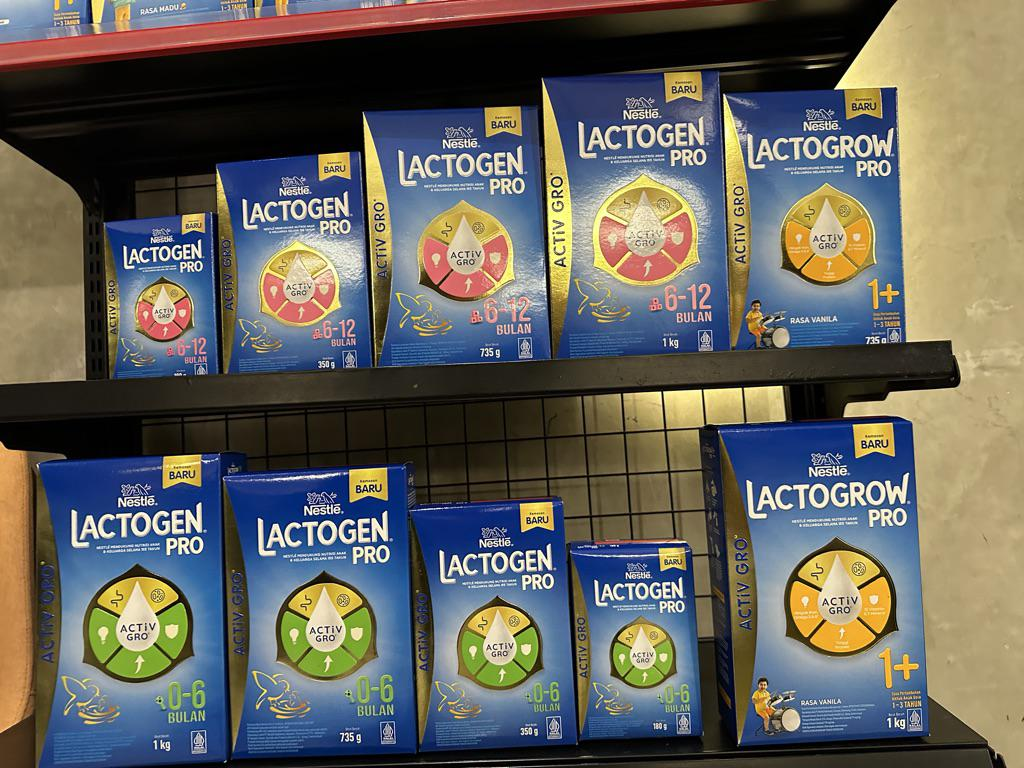LACTOGEN PRO 0-6 mo 12x1kg ID: (34, 454, 226, 764)
LACTOGEN PRO 0-6 mo 12x735g ID: (223, 468, 415, 752)
LACTOGEN PRO 0-6 mo 24x350g ID: (410, 501, 573, 747)
LACTOGEN PRO 0-6 mo 40x180g ID: (569, 548, 701, 742)
LACTOGEN PRO 6-12 mo 12x1kg ID: (540, 67, 727, 354)
LACTOGEN PRO 6-12 mo 12x735g ID: (361, 103, 556, 365)
LACTOGEN PRO 6-12 mo 24x350g ID: (361, 105, 552, 364), (213, 149, 372, 373)
LACTOGEN PRO 6-12 mo 40x180g ID: (99, 212, 221, 379)
LACTOGROW PRO 1+ Van 12x1kg ID: (713, 419, 928, 743)
LACTOGROW PRO 1+ Van 12x735g ID: (722, 87, 903, 347)
